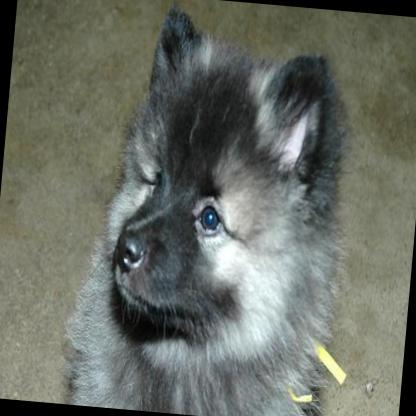keeshond: (53, 0, 357, 416)
